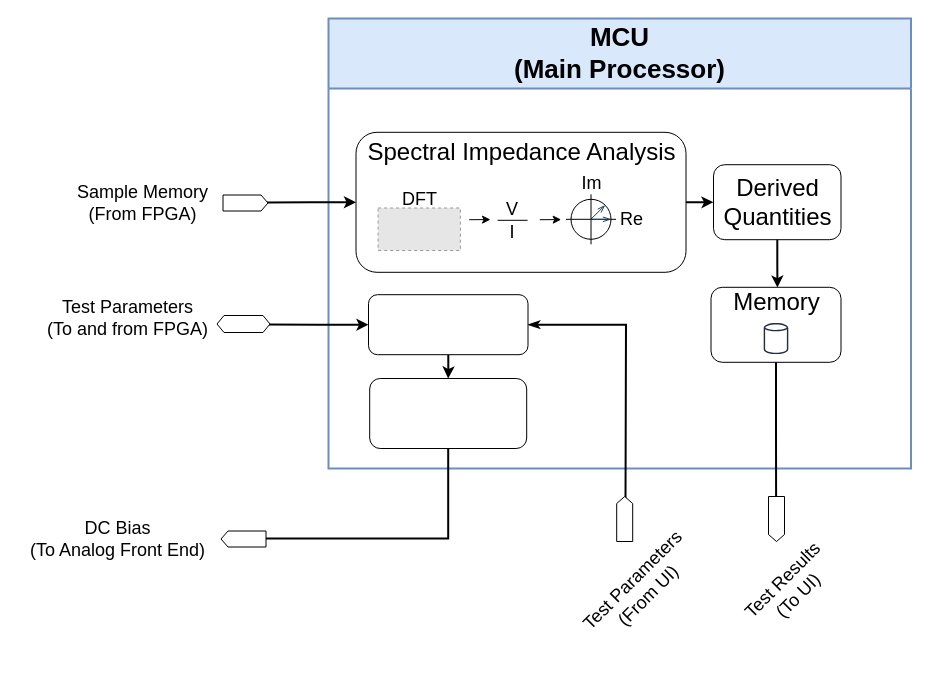
Image size: 929x680. Some labels were removed from this diagram. Grey dashed boxes stand in for pictures. Here are the shapes that lost their labels. From the top down, the centre of each, then its label:
At (x=448, y=324): "Test Parameters".
At (x=448, y=413): "Bias Control".
